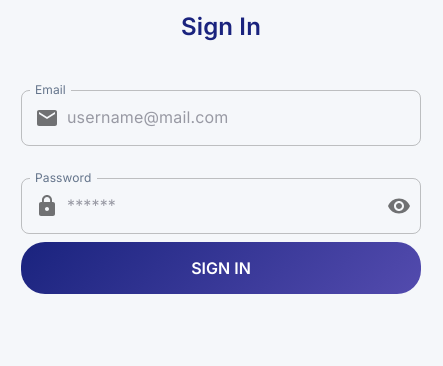
Test: LoginForm Component › Form Validation › should show error for invalid email
Type "invalid-email" into the field labelled "Email" at point(244, 118), box [67, 90, 421, 146]
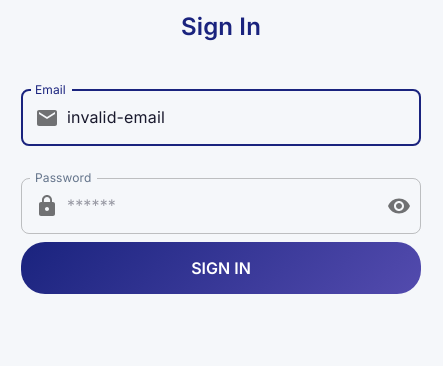
Click the button "Sign In" at point(221, 268), box [21, 242, 421, 294]
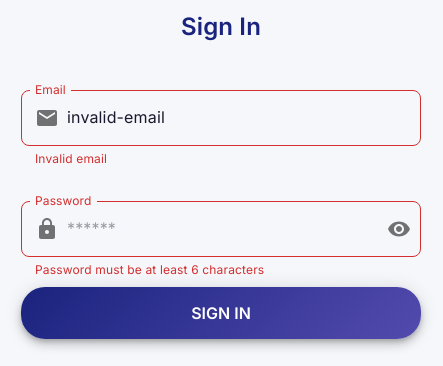
Check: the text "Invalid email" is shown, box [35, 151, 107, 166]
